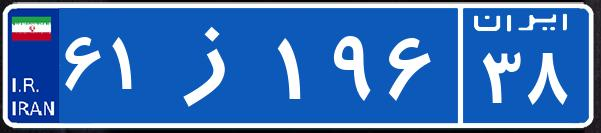1: (273, 28, 330, 110), (110, 28, 158, 105)
3: (475, 38, 525, 113)
6: (385, 28, 445, 110), (57, 26, 110, 107)
8: (525, 38, 570, 115)
9: (330, 28, 385, 110)
ز: (158, 15, 273, 115)
